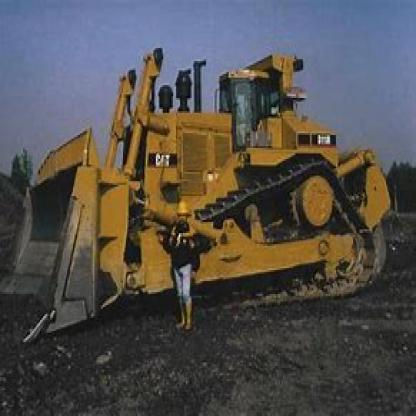bull_dozer/loader/grader: (36, 40, 393, 361)
